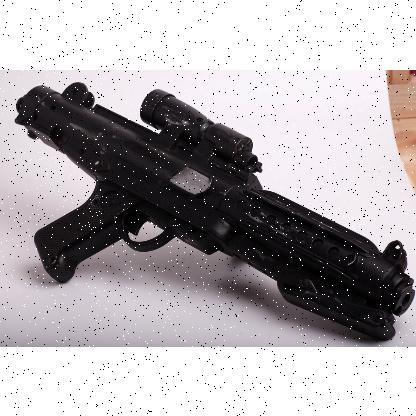gun: (13, 79, 415, 341), (16, 80, 414, 340)
